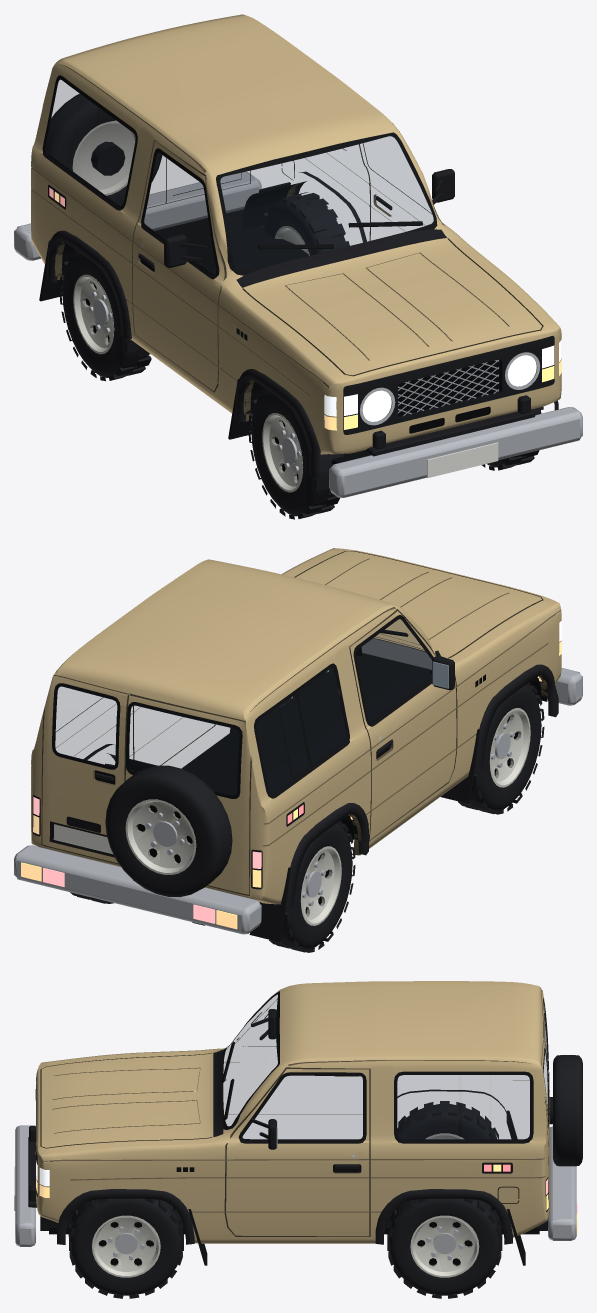
The model's file is car_offroad.glb.
3 renders of one model, top to bottom at view 1: azimuth 30°, elevation 25°; view 2: azimuth 150°, elevation 25°; view 3: azimuth 270°, elevation 25°, orthographic. The views are drawn at different scales.
Parts seen in each view (by area): view 1: body, wheel_fl, wheel_rl, spare, wheel_rr; view 2: body, spare, wheel_rl, wheel_fl; view 3: body, wheel_rr, wheel_fr, spare, wheel_rl.
Boxes of the visible parts, x1,y1,x2,y2 form: body: (14, 14, 582, 497); wheel_fl: (248, 387, 343, 519); wheel_rl: (59, 249, 151, 381); spare: (45, 93, 162, 205); wheel_rr: (260, 192, 349, 255); body: (14, 548, 582, 942); spare: (105, 765, 232, 897); wheel_rl: (269, 821, 355, 952); wheel_fl: (458, 682, 544, 814); body: (14, 981, 577, 1265); wheel_rr: (387, 1198, 502, 1298); wheel_fr: (68, 1198, 183, 1298); spare: (553, 1055, 582, 1166); wheel_rl: (397, 1101, 498, 1139).
Bounding box in the file's own units: 2.04 × 1.9 × 4.13.
